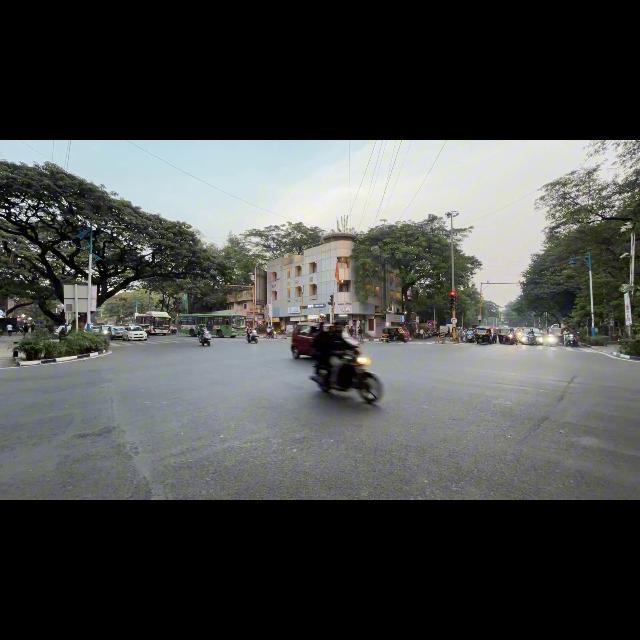bus: (178, 314, 246, 337), (135, 312, 171, 335)
car: (291, 322, 320, 358), (291, 322, 319, 358), (520, 328, 543, 344), (122, 326, 147, 340), (106, 326, 124, 339), (140, 324, 150, 334), (55, 325, 64, 334)
motorcycle: (310, 351, 382, 403), (564, 333, 580, 347), (199, 330, 211, 346), (544, 334, 557, 346), (247, 330, 258, 343), (503, 334, 517, 344), (527, 334, 537, 346), (267, 330, 277, 338), (467, 333, 474, 343), (170, 328, 177, 334)
